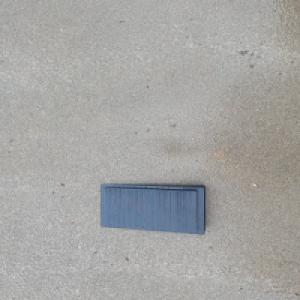PlasticPart: (99, 183, 207, 235)
